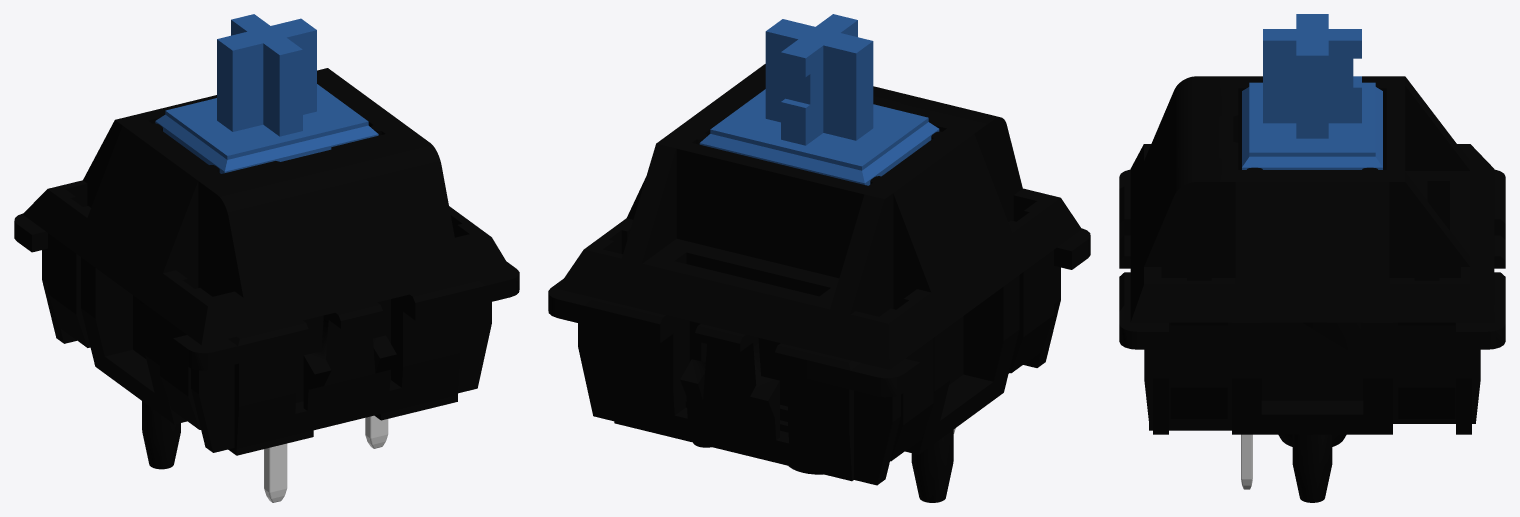
Rendered from cherry-mx-mid-web-v10.glb.
3 views of the same model, side by side, from view 1: azimuth 30°, elevation 25°; view 2: azimuth 150°, elevation 25°; view 3: azimuth 270°, elevation 25° (orthographic). The views are drawn at different scales.
Parts seen in each view (by area): view 1: Mid Top, Mid Bottom, Mid Switch, Mid Contacts; view 2: Mid Top, Mid Bottom, Mid Switch; view 3: Mid Top, Mid Bottom, Mid Switch, Mid Contacts.
Boxes of the visible parts, x1,y1,x2,y2 form: Mid Top: (22,68,510,429); Mid Bottom: (14,213,519,469); Mid Switch: (155,14,378,173); Mid Contacts: (264,415,388,502); Mid Top: (557,64,1081,461); Mid Bottom: (548,228,1090,502); Mid Switch: (699,14,939,185); Mid Top: (1130,76,1494,418); Mid Bottom: (1119,169,1505,502); Mid Switch: (1242,14,1382,169); Mid Contacts: (1241,434,1252,489).
Size of the model in its own units: 0.0156 by 0.0185 by 0.0156.
